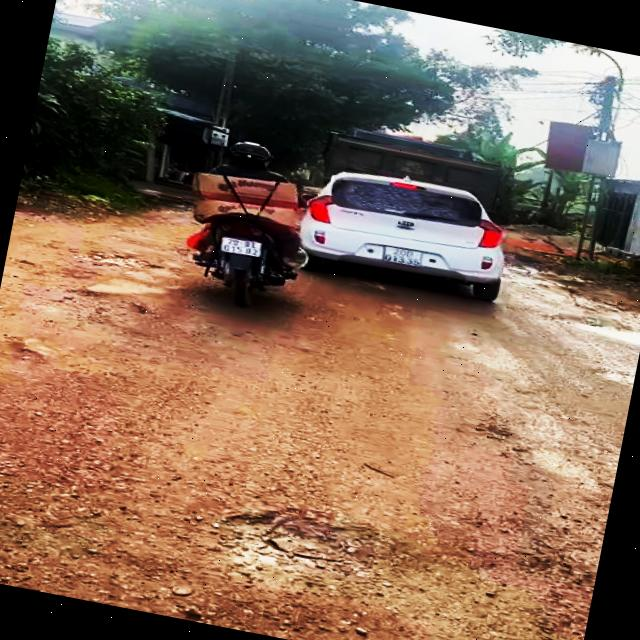pothole: (194, 508, 384, 614), (30, 276, 168, 341), (545, 309, 640, 351), (76, 240, 163, 280)
